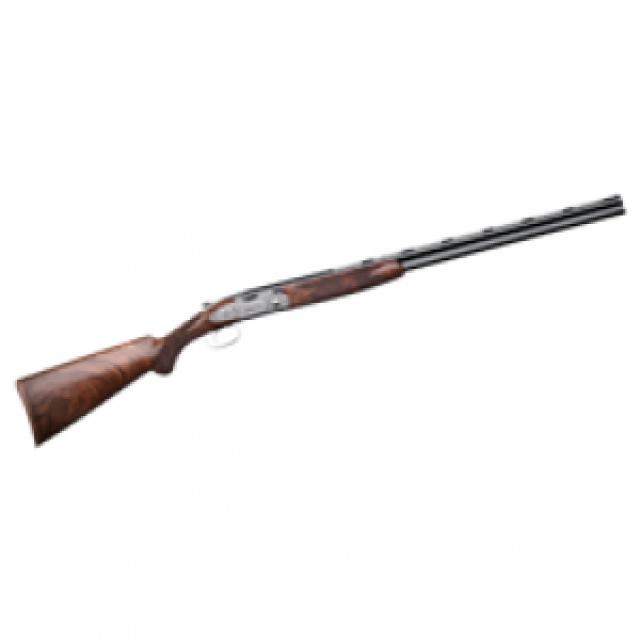rifle: (11, 183, 631, 466)
